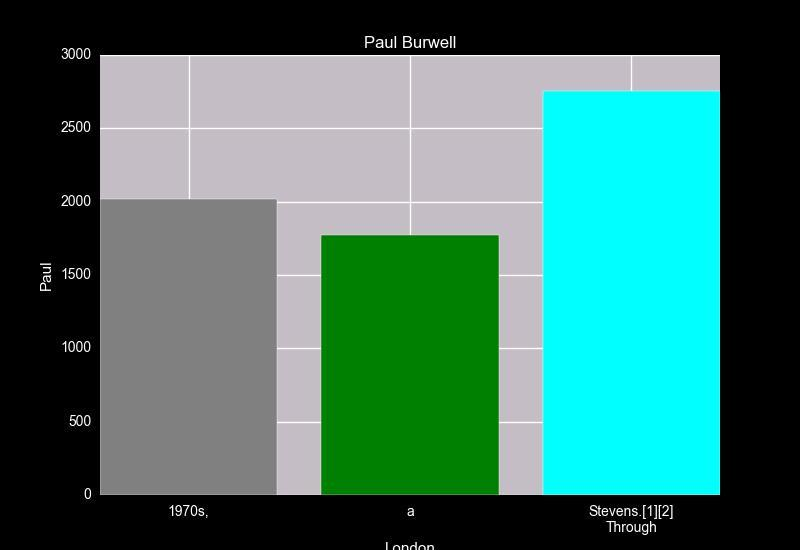axis: (22, 49, 91, 502)
rectangle: (543, 91, 720, 495), (100, 199, 277, 495), (322, 235, 498, 495)
